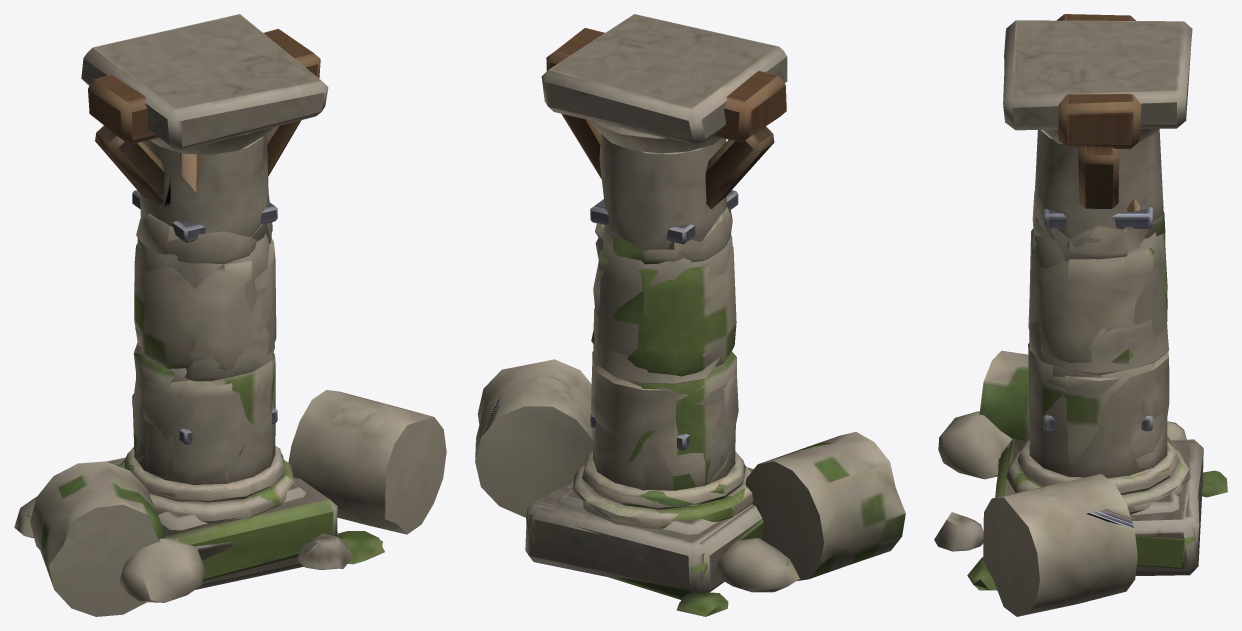
The model's file is env-columns.low.glb.
3 renders of one model, left to right at view 1: azimuth 30°, elevation 25°; view 2: azimuth 150°, elevation 25°; view 3: azimuth 270°, elevation 25°, orthographic.
Visible parts, largest first — view 1: column-moss, column-broken, column-intact, column-wood; view 2: column-intact, column-moss, column-broken, column-wood; view 3: column-broken, column-intact, column-moss, column-wood.
Part boxes in pixels (left/top/right/bottom): column-moss: left=30, top=213, right=384, bottom=616; column-broken: left=14, top=328, right=446, bottom=602; column-intact: left=81, top=14, right=328, bottom=526; column-wood: left=88, top=28, right=320, bottom=530; column-intact: left=532, top=14, right=787, bottom=593; column-moss: left=526, top=206, right=905, bottom=616; column-broken: left=475, top=308, right=799, bottom=592; column-wood: left=546, top=28, right=786, bottom=534; column-broken: left=934, top=319, right=1203, bottom=616; column-intact: left=1003, top=20, right=1199, bottom=553; column-moss: left=967, top=192, right=1227, bottom=590; column-wood: left=1018, top=14, right=1179, bottom=515.
Bounding box in the file's own units: 1.44 × 1.63 × 0.8955.
Materials: 1 (1 with a texture image).
